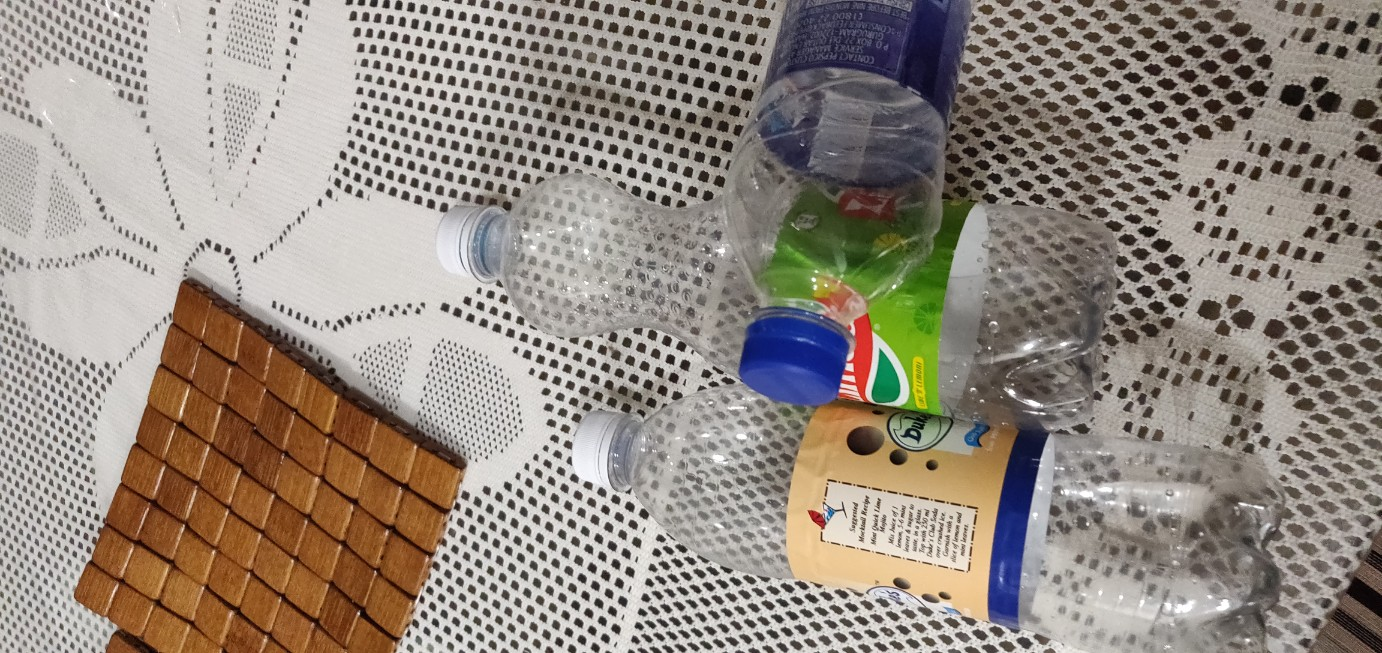Electronics: (413, 158, 1159, 470), (541, 363, 1310, 653), (706, 1, 985, 415)
